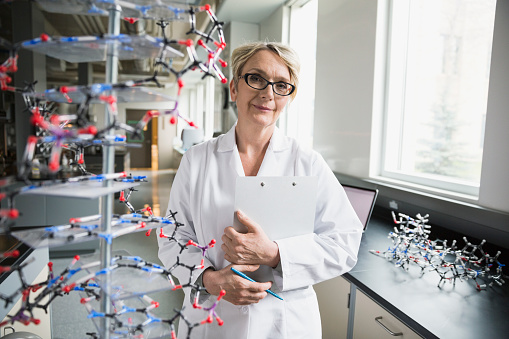em pe: (166, 19, 368, 339)
